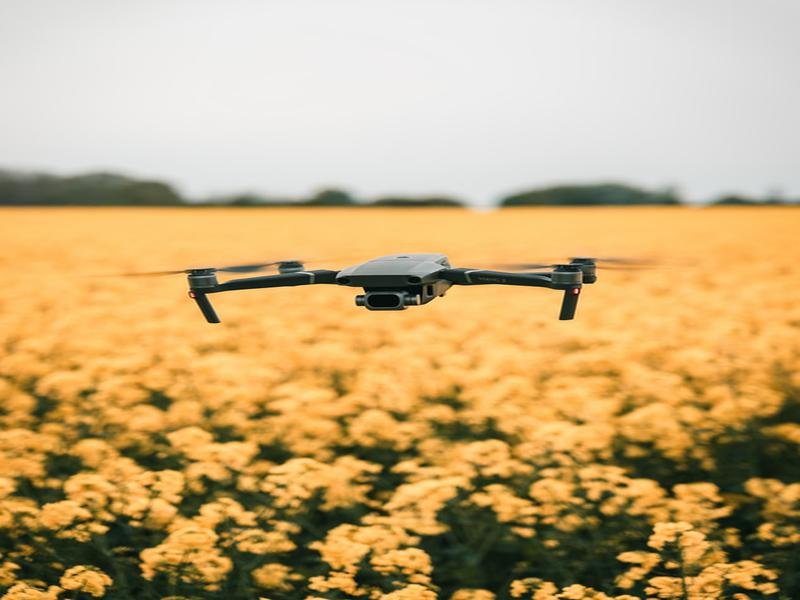enemy: (184, 250, 601, 330)
